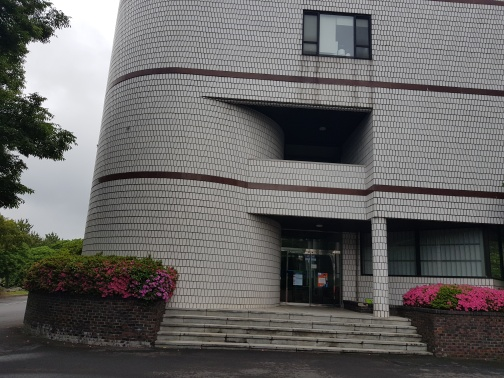Foreign Language Institute: (98, 4, 497, 356), (156, 178, 438, 359)
